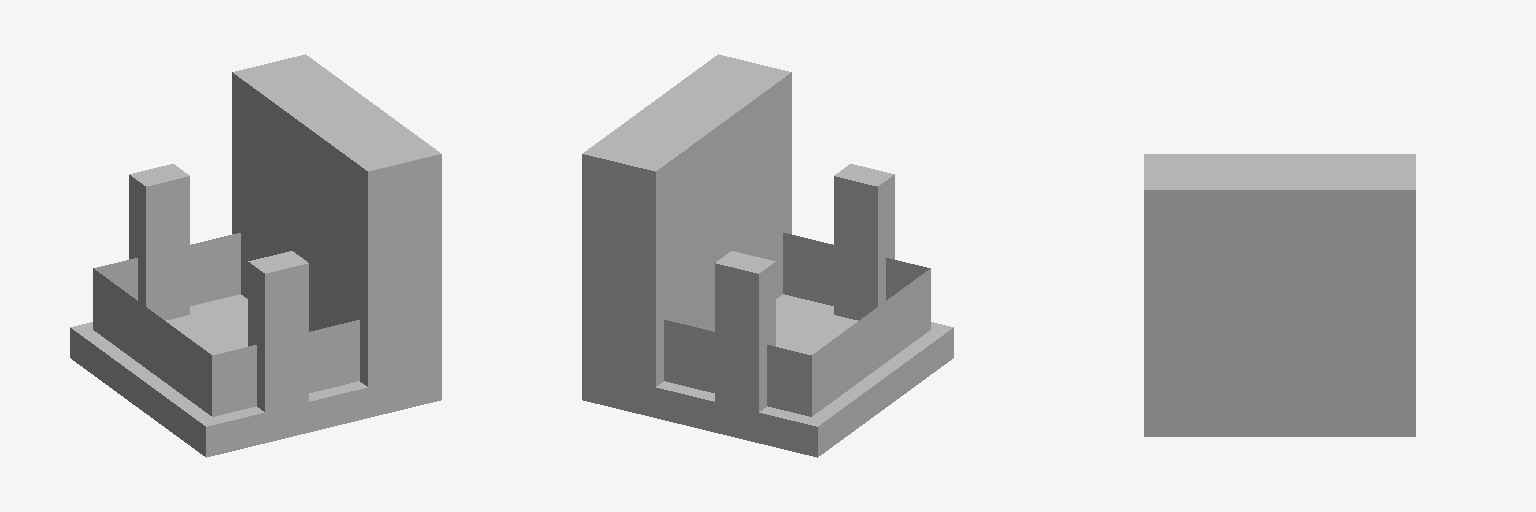
File: chemical_extractor_base.obj
3 renders of one model, left to right at view 1: azimuth 30°, elevation 25°; view 2: azimuth 150°, elevation 25°; view 3: azimuth 270°, elevation 25°, orthographic.
Parts seen in each view (by area): view 1: back, base, holder_right, holder_left, fence_front, fence_right, fence_left; view 2: back, base, holder_left, holder_right, fence_front, fence_left, fence_right; view 3: back, base.
Boxes of the visible parts, box(x1,y1,x2,y2) form: back: box(232, 54, 441, 386); base: box(70, 294, 441, 457); holder_right: box(248, 251, 308, 411); holder_left: box(129, 164, 189, 320); fence_front: box(93, 268, 211, 415); fence_right: box(212, 320, 359, 416); fence_left: box(94, 233, 240, 305); back: box(582, 54, 791, 386); base: box(582, 294, 953, 457); holder_left: box(715, 251, 775, 411); holder_right: box(834, 164, 894, 320); fence_front: box(812, 268, 930, 415); fence_left: box(664, 320, 811, 416); fence_right: box(783, 233, 929, 305); back: box(1144, 154, 1415, 405); base: box(1144, 406, 1415, 436).
Bounding box in the file's own units: 16 × 16 × 16.